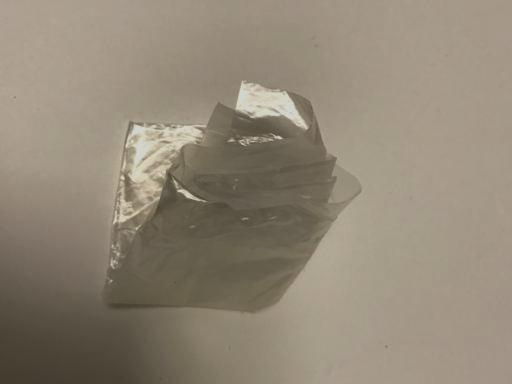trash: (98, 80, 361, 315)
